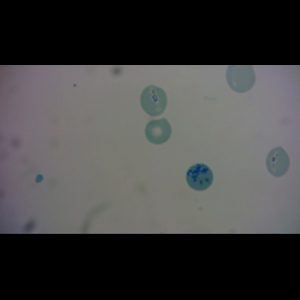aggregate reticulocyte: (185, 162, 215, 192)
erythrocyte: (140, 84, 169, 118), (226, 65, 258, 94), (265, 145, 291, 179), (144, 116, 172, 147)
